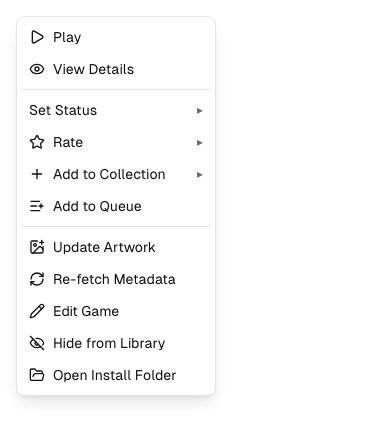
Story 6.4: Game Card Context Menu › Add to Collection submenu shows collections + New
Hover over the menu item with test id "ctx-collection" at (116, 174), box [21, 158, 211, 190]
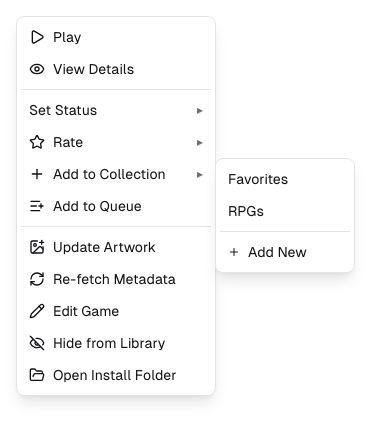
Expected: the menu with test id "ctx-collection-submenu" is shown, [215, 158, 355, 273]
Expected: the menu item with test id "ctx-collection-Favorites" is shown, [220, 163, 350, 195]
Expected: the menu item with test id "ctx-collection-RPGs" is shown, [220, 195, 350, 227]
